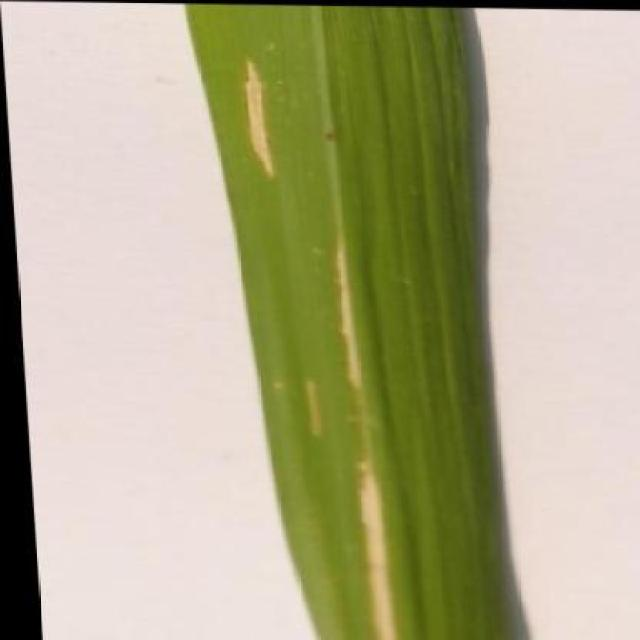Brown_Spot: (246, 204, 403, 640), (186, 45, 320, 188)
